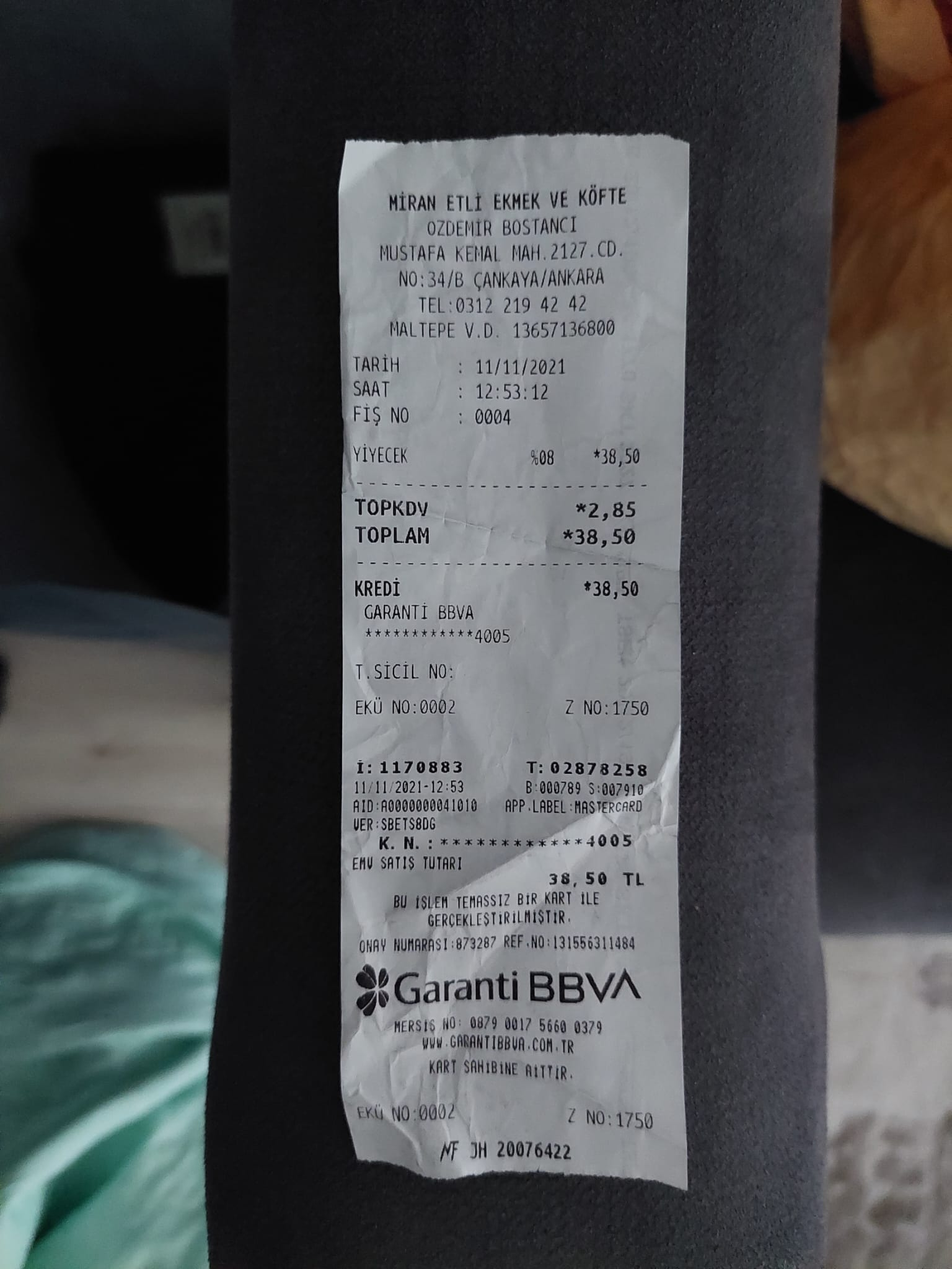date: (569, 523, 646, 556)
price: (471, 353, 569, 381)
workplace: (365, 177, 649, 294)
